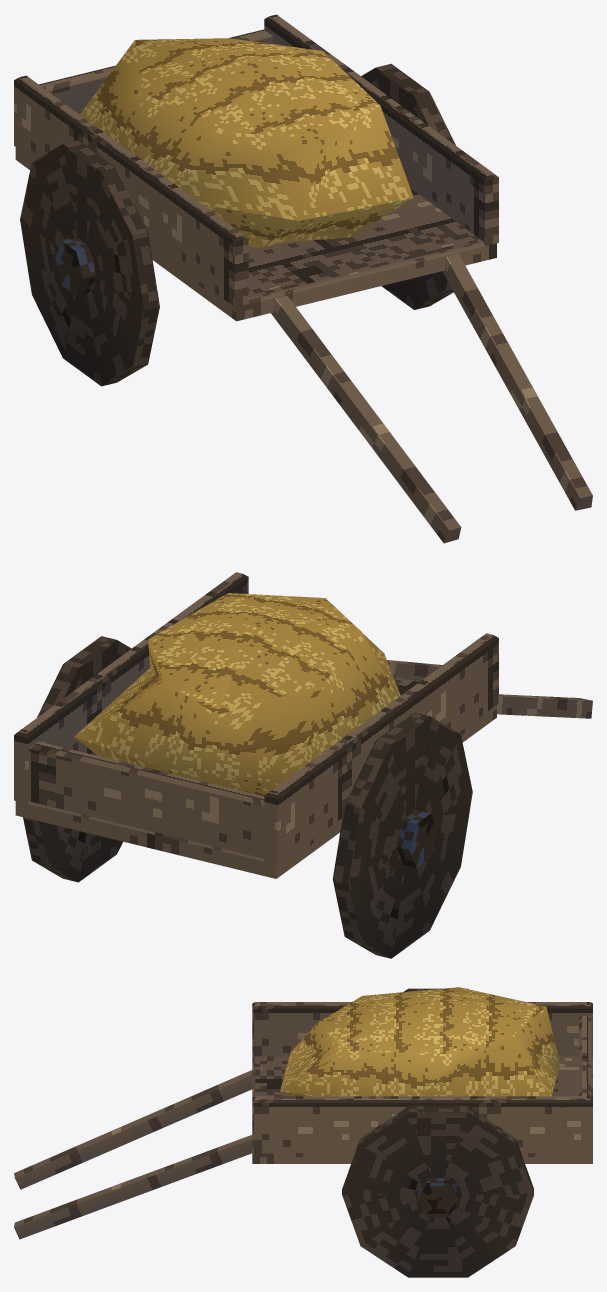
Rendered from mprop.cart.glb.
The picture shows the model from 3 angles, top to bottom: view 1: azimuth 30°, elevation 25°; view 2: azimuth 150°, elevation 25°; view 3: azimuth 270°, elevation 25°; orthographic projection. The views are drawn at different scales.
Parts seen in each view (by area): view 1: kit_bed, kit_load, kit_wheels; view 2: kit_bed, kit_load, kit_wheels; view 3: kit_bed, kit_wheels, kit_load.
Part boxes in pixels (box(x1,y1,x2,y2)): kit_bed: box(14, 14, 592, 543); kit_load: box(80, 38, 413, 247); kit_wheels: box(20, 63, 455, 386); kit_bed: box(14, 572, 592, 878); kit_load: box(74, 593, 400, 796); kit_wheels: box(23, 636, 472, 958); kit_bed: box(14, 1002, 592, 1239); kit_wheels: box(342, 988, 533, 1277); kit_load: box(280, 987, 560, 1096).
Bounding box in the file's own units: 2.04 × 1.52 × 3.74.
Materials: 5 (5 with a texture image).
